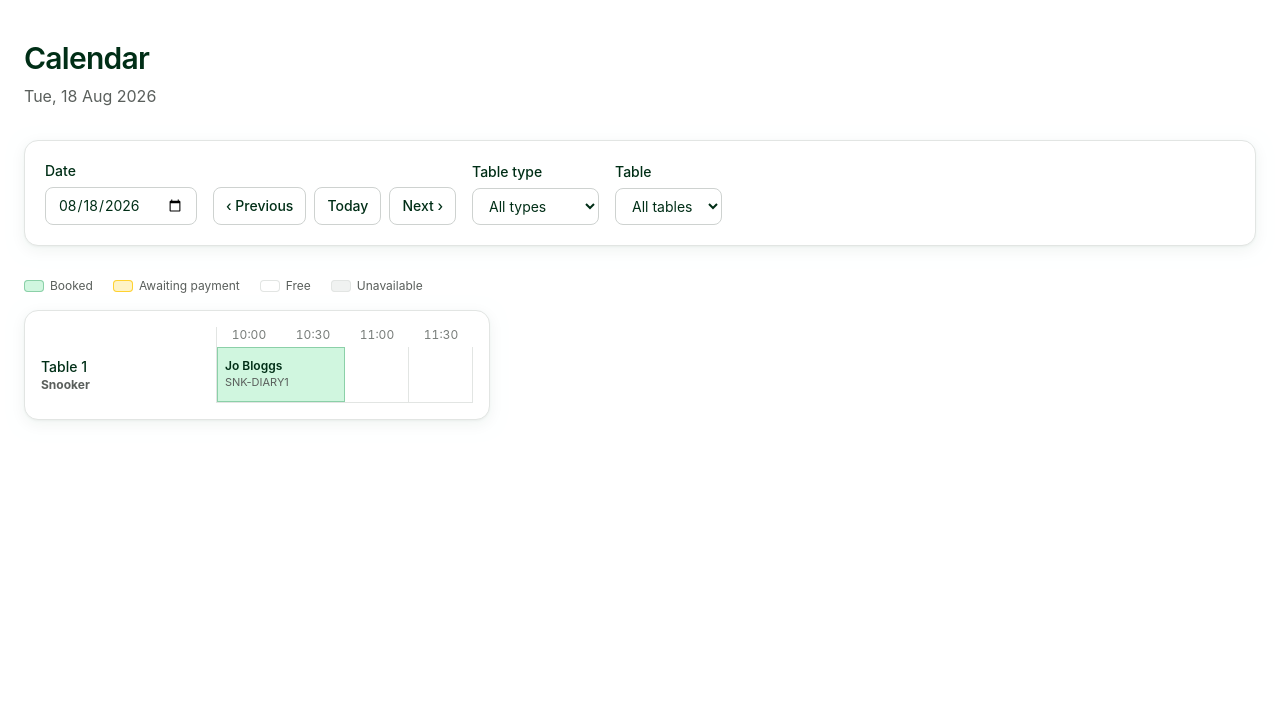
Scenario: AdminDiaryPage › the booking dialog › opens the booking over the grid, and records it in the URL
Click the button "Jo Bloggs SNK-DIARY1" at (281,375), box [217,347,345,403]
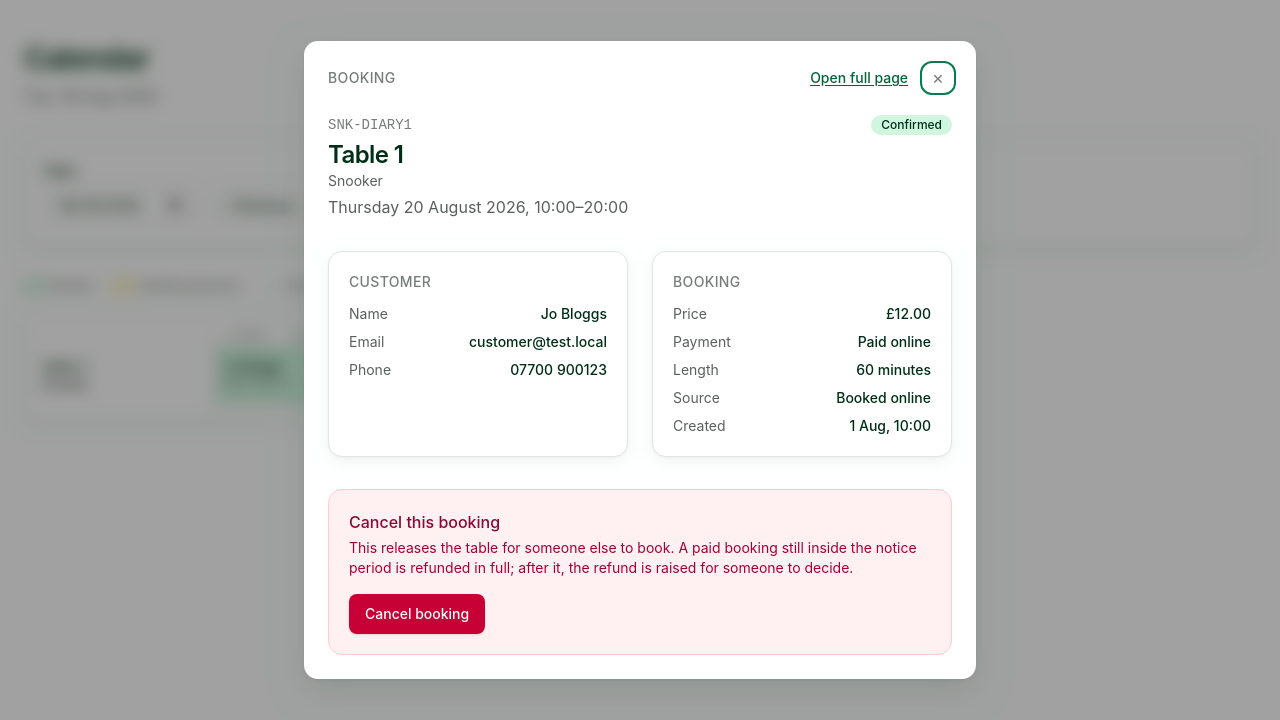
Result: the text "SNK-DIARY1" is shown at [328,117,412,133]
